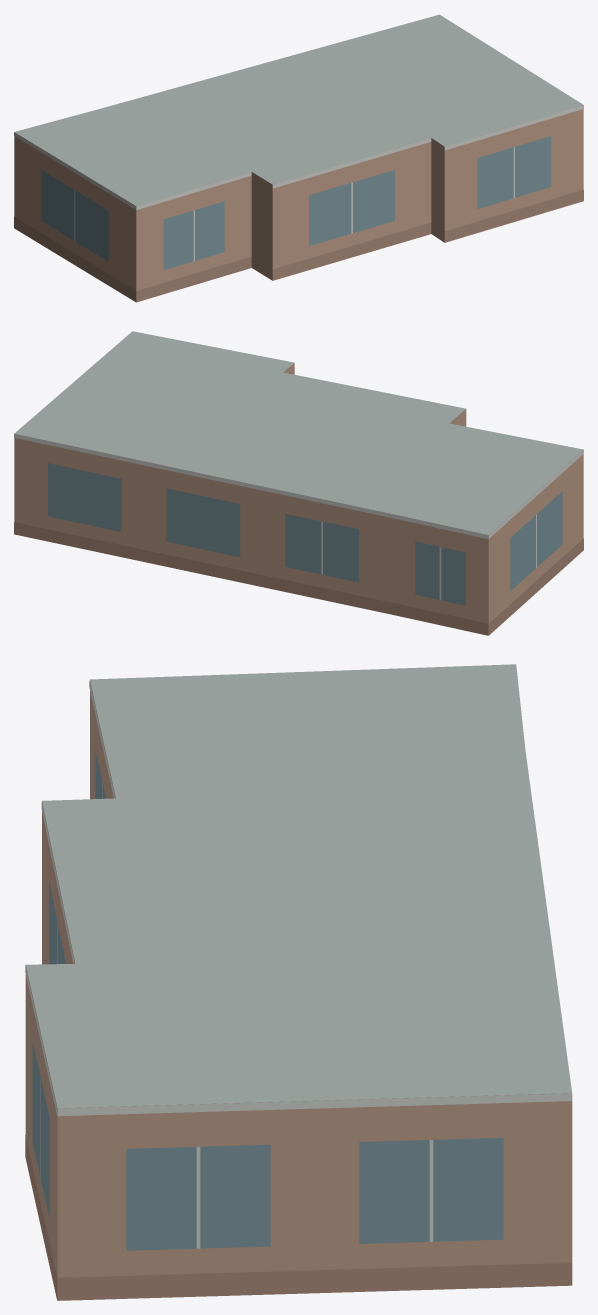
Rendered from survey-upis-32735430.glb.
3 renders of one model, top to bottom at view 1: azimuth 30°, elevation 25°; view 2: azimuth 150°, elevation 25°; view 3: azimuth 270°, elevation 25°, orthographic. The views are drawn at different scales.
Visible parts, largest first — view 1: survey-upis-32735430.tmp; view 2: survey-upis-32735430.tmp; view 3: survey-upis-32735430.tmp.
Boxes of the visible parts, left/top/right/bottom form: survey-upis-32735430.tmp: left=14, top=14, right=583, bottom=302; survey-upis-32735430.tmp: left=14, top=331, right=583, bottom=635; survey-upis-32735430.tmp: left=25, top=664, right=572, bottom=1300.
Bounding box in the file's own units: 15.11 × 3.05 × 7.86.
